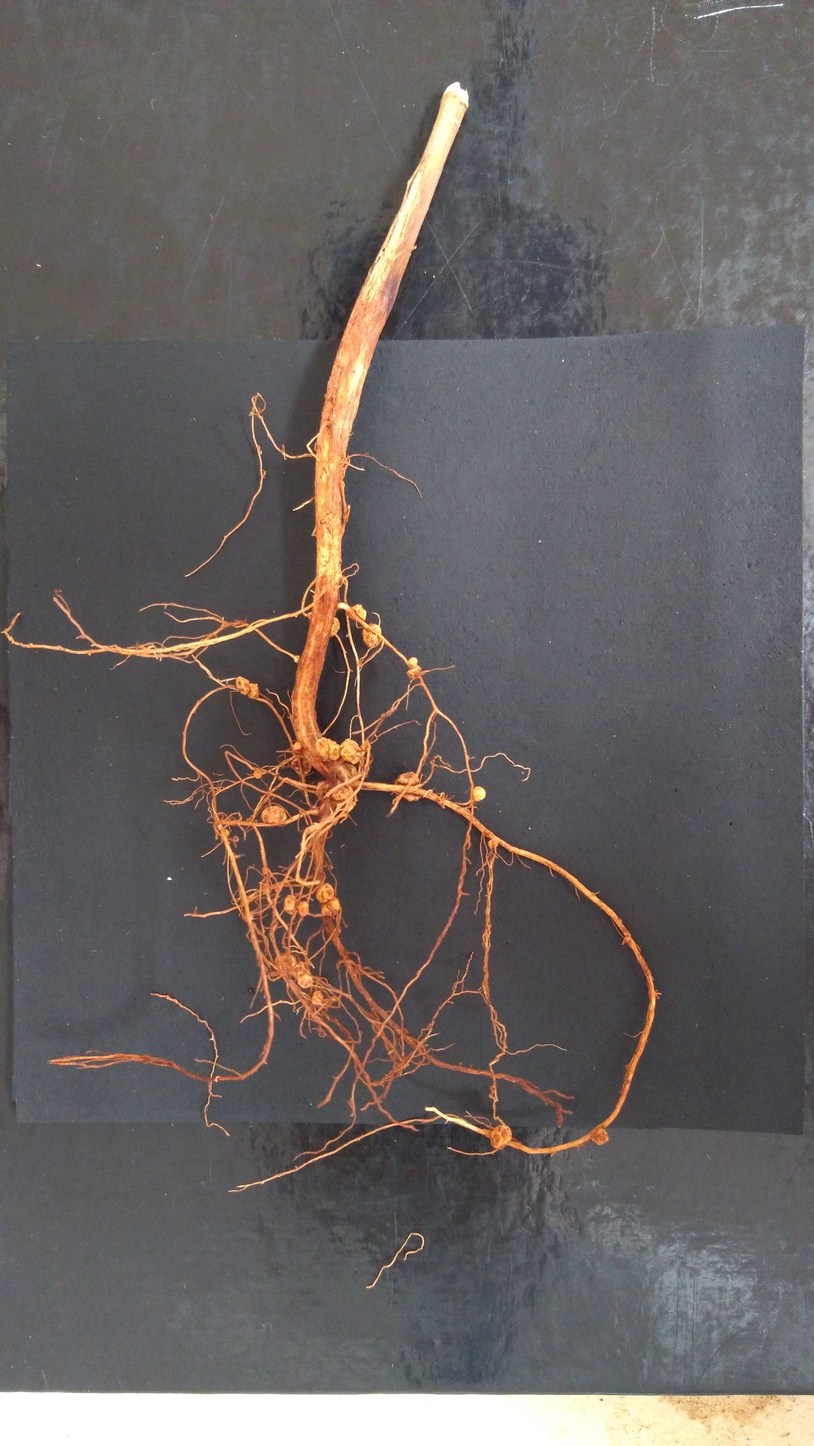nodule: (394, 771, 424, 802), (314, 736, 342, 762), (339, 739, 365, 765), (336, 763, 359, 790), (260, 805, 288, 825), (490, 1124, 512, 1148), (362, 623, 382, 648), (290, 754, 312, 775), (274, 952, 297, 972), (315, 882, 335, 903), (321, 896, 341, 916), (345, 604, 367, 622), (590, 1127, 610, 1146), (283, 894, 299, 915), (315, 780, 330, 802), (236, 676, 251, 696), (331, 787, 351, 801), (297, 973, 314, 989), (310, 989, 325, 1006), (296, 900, 310, 917), (472, 786, 486, 802), (247, 683, 260, 700), (329, 617, 340, 637), (406, 665, 421, 679), (360, 740, 372, 752), (261, 882, 272, 895), (407, 657, 418, 668), (253, 769, 263, 780), (293, 741, 303, 751), (487, 839, 498, 848), (623, 932, 633, 941), (223, 828, 231, 837), (293, 655, 300, 663), (307, 611, 312, 621), (262, 867, 268, 875)
